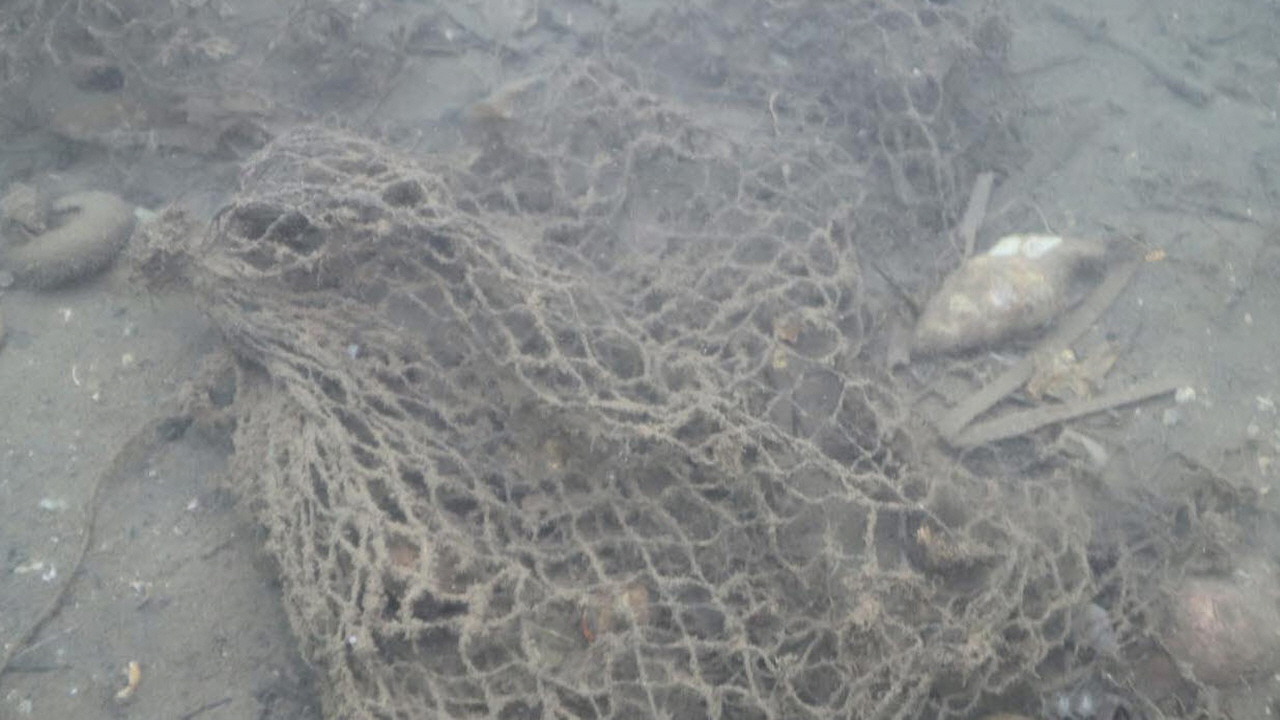fish net: (191, 0, 1199, 720)
